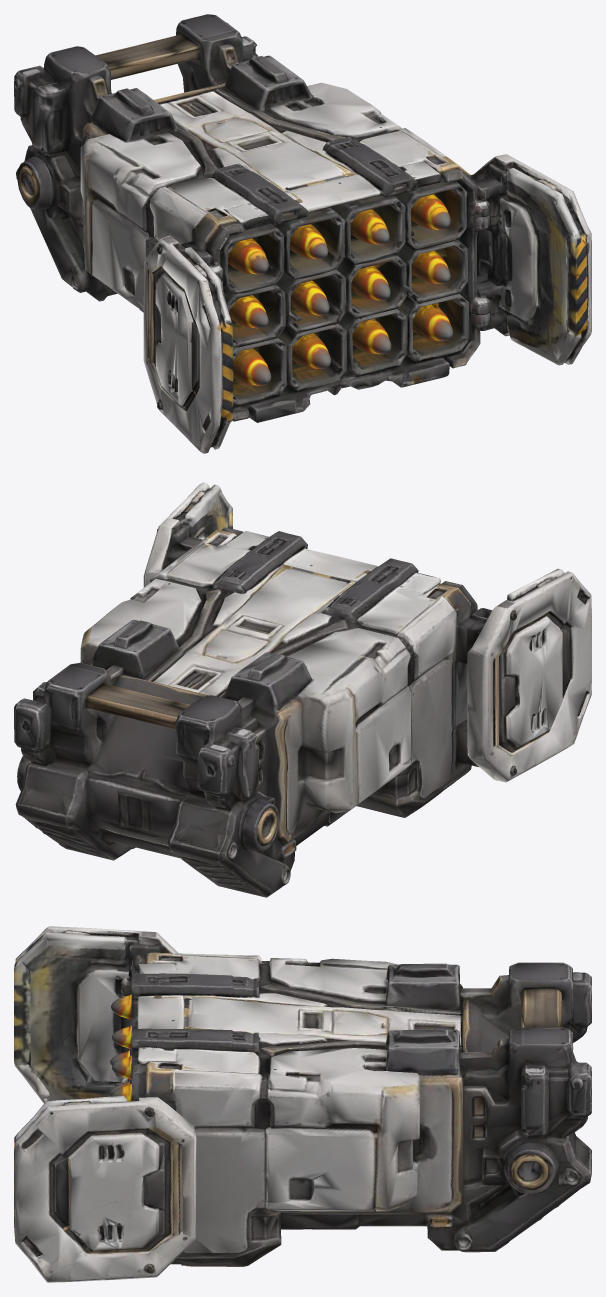
The model's file is u_missile.glb.
3 renders of one model, top to bottom at view 1: azimuth 30°, elevation 25°; view 2: azimuth 150°, elevation 25°; view 3: azimuth 270°, elevation 25°, orthographic.
Parts seen in each view (by area): view 1: tripo_node_e553c137-c6ff-44c5-be80-2ea235c84161; view 2: tripo_node_e553c137-c6ff-44c5-be80-2ea235c84161; view 3: tripo_node_e553c137-c6ff-44c5-be80-2ea235c84161.
Part boxes in pixels (box(x1,y1,x2,y2)): tripo_node_e553c137-c6ff-44c5-be80-2ea235c84161: box(14, 14, 591, 453); tripo_node_e553c137-c6ff-44c5-be80-2ea235c84161: box(14, 482, 591, 897); tripo_node_e553c137-c6ff-44c5-be80-2ea235c84161: box(14, 926, 591, 1282).
Size of the model in its own units: 0.7667 by 0.4045 by 1.
1 material, 1 textured.
